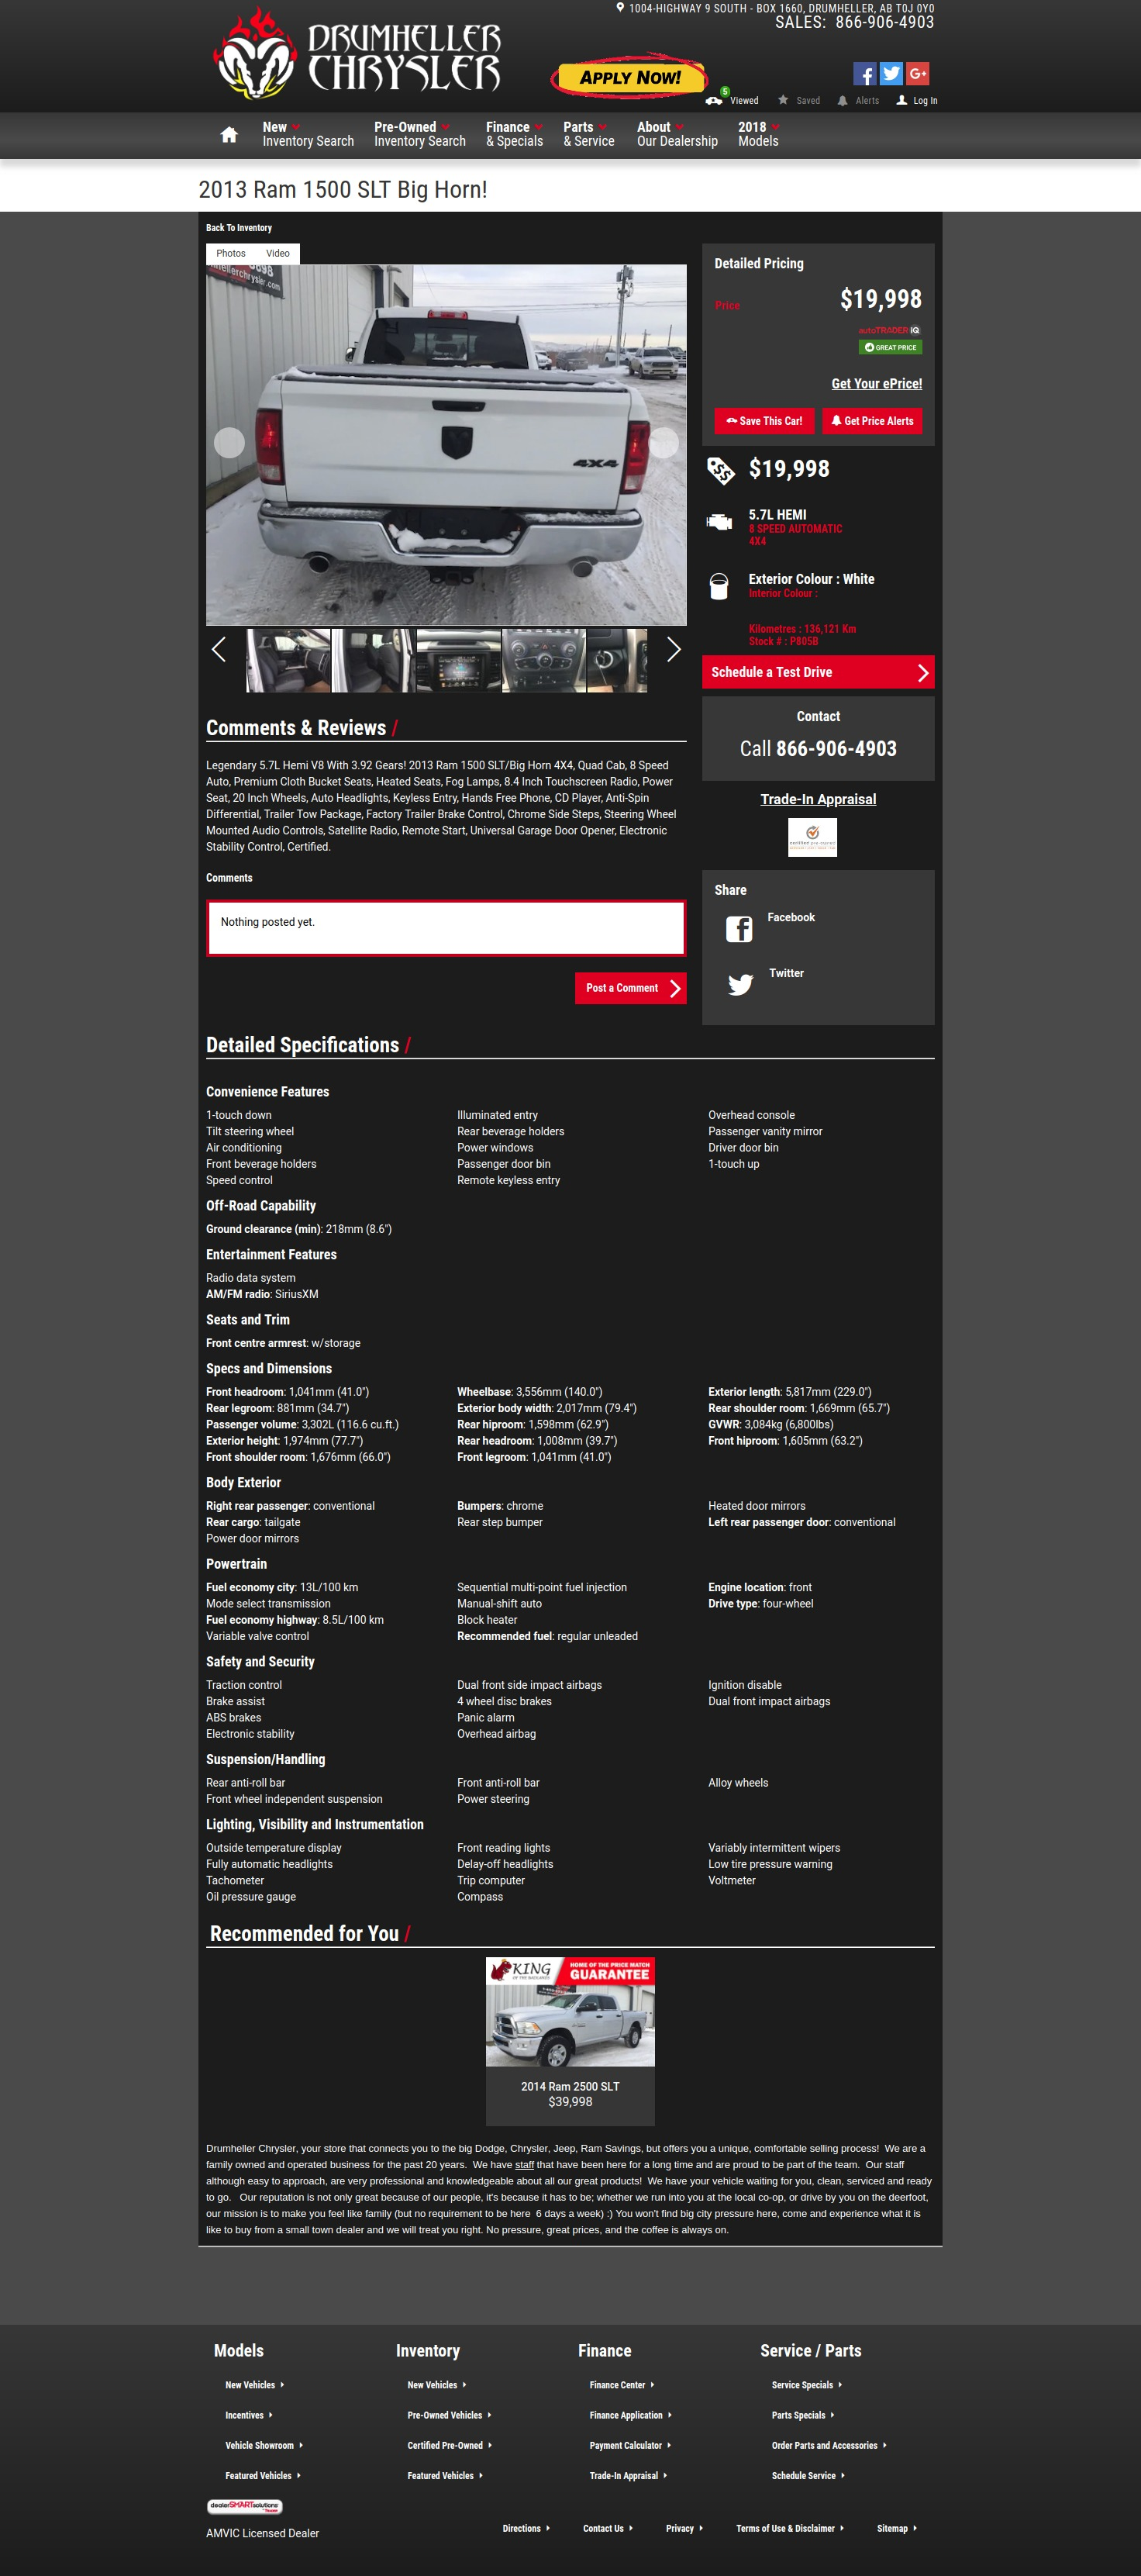car: (667, 637, 681, 664)
